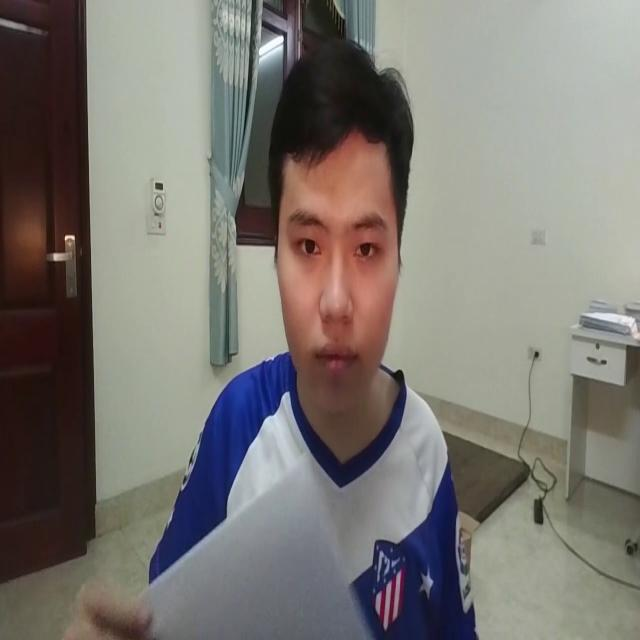book: (133, 470, 377, 640)
student: (129, 28, 491, 640)
